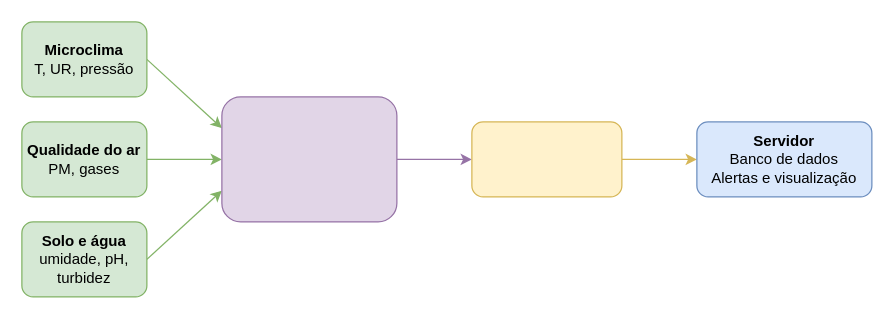
The diagram is 894 pixels wide and 319 high, and some of its shapes have lost their labels. Here are the shapes that lost their labels. From the top down, the centre of each, then its label:
At point (309, 159): "Nós de sensores Amostragem Timestamp Filtragem Armazenamento".
At point (546, 159): "Gateway Concentra dados e gerencia o enlace".
